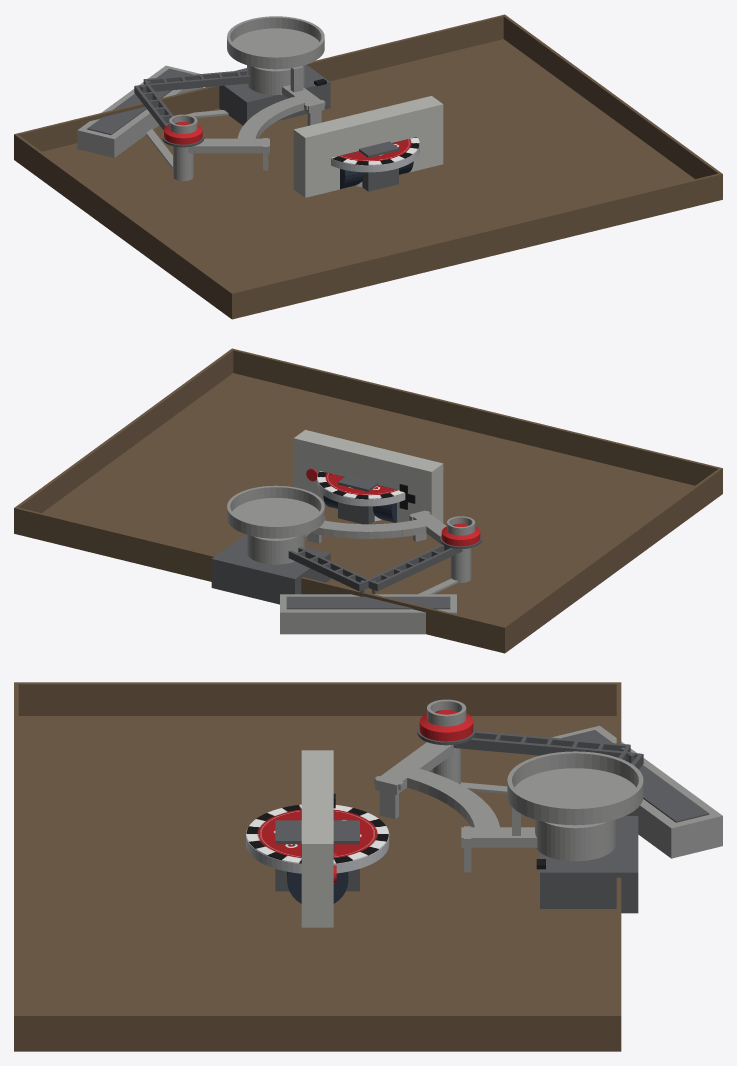
Rendered from accessories.glb.
3 views of the same model, one above another, from view 1: azimuth 30°, elevation 25°; view 2: azimuth 150°, elevation 25°; view 3: azimuth 270°, elevation 25° (orthographic). The views are drawn at different scales.
Parts seen in each view (by area): view 1: ACC_Box_mesh, ACC_Pad2_body, ACC_BlockTray_mesh, ACC_GyroHolder_mesh, ACC_GyroTray_frame, ACC_Spinner_box, ACC_GyroTray_leverA_mesh, ACC_GyroTray_slot, ACC_Spinner_drum, ACC_Gyro_label, ACC_GyroTray_leverB_mesh, ACC_HandsBlock_mesh (+3 smaller); view 2: ACC_Box_mesh, ACC_Pad2_body, ACC_GyroTray_frame, ACC_BlockTray_mesh, ACC_Spinner_box, ACC_GyroHolder_mesh, ACC_GyroTray_slot, ACC_GyroTray_leverB_mesh, ACC_Spinner_drum, ACC_GyroTray_leverA_mesh, ACC_Gyro_label, ACC_HandsBlock_mesh (+3 smaller); view 3: ACC_Box_mesh, ACC_BlockTray_mesh, ACC_GyroHolder_mesh, ACC_Spinner_box, ACC_Pad2_body, ACC_GyroTray_frame, ACC_Gyro_label, ACC_GyroTray_leverB_mesh, ACC_Spinner_drum, ACC_GyroTray_slot, ACC_HandsBlock_mesh, ACC_Gyro_disc (+3 smaller).
Boxes of the visible parts, box(x1,y1,x2,y2) form: ACC_Box_mesh: box(14, 14, 722, 319); ACC_Pad2_body: box(293, 96, 443, 197); ACC_BlockTray_mesh: box(227, 16, 325, 125); ACC_GyroHolder_mesh: box(169, 85, 324, 181); ACC_GyroTray_frame: box(77, 65, 228, 180); ACC_Spinner_box: box(219, 64, 330, 125); ACC_GyroTray_leverA_mesh: box(143, 70, 250, 92); ACC_GyroTray_slot: box(87, 68, 192, 134); ACC_Spinner_drum: box(247, 65, 304, 94); ACC_Gyro_label: box(331, 137, 419, 165); ACC_GyroTray_leverB_mesh: box(134, 84, 204, 147); ACC_HandsBlock_mesh: box(359, 141, 398, 191); ACC_Box_mesh: box(14, 348, 722, 653); ACC_Pad2_body: box(293, 430, 443, 522); ACC_GyroTray_frame: box(280, 549, 471, 634); ACC_BlockTray_mesh: box(227, 485, 325, 543); ACC_Spinner_box: box(211, 534, 330, 604); ACC_GyroHolder_mesh: box(311, 510, 475, 582); ACC_GyroTray_slot: box(286, 596, 450, 609); ACC_GyroTray_leverB_mesh: box(368, 535, 481, 593); ACC_Spinner_drum: box(247, 534, 304, 564); ACC_GyroTray_leverA_mesh: box(288, 547, 370, 593); ACC_Gyro_label: box(317, 471, 404, 499); ACC_HandsBlock_mesh: box(338, 475, 377, 524); ACC_Box_mesh: box(14, 682, 621, 1051); ACC_BlockTray_mesh: box(461, 751, 643, 872); ACC_GyroHolder_mesh: box(374, 699, 537, 847); ACC_Spinner_box: box(540, 816, 638, 913); ACC_Pad2_body: box(301, 750, 333, 927); ACC_GyroTray_frame: box(432, 725, 722, 858); ACC_Gyro_label: box(246, 804, 388, 863); ACC_GyroTray_leverB_mesh: box(417, 726, 630, 760); ACC_Spinner_drum: box(535, 819, 615, 861); ACC_GyroTray_slot: box(562, 730, 709, 822); ACC_HandsBlock_mesh: box(275, 820, 359, 891); ACC_Gyro_disc: box(246, 828, 389, 873).
Bounding box in the file's own units: 0.52 × 0.0763 × 0.467.
Materials: 13 (1 with a texture image).
